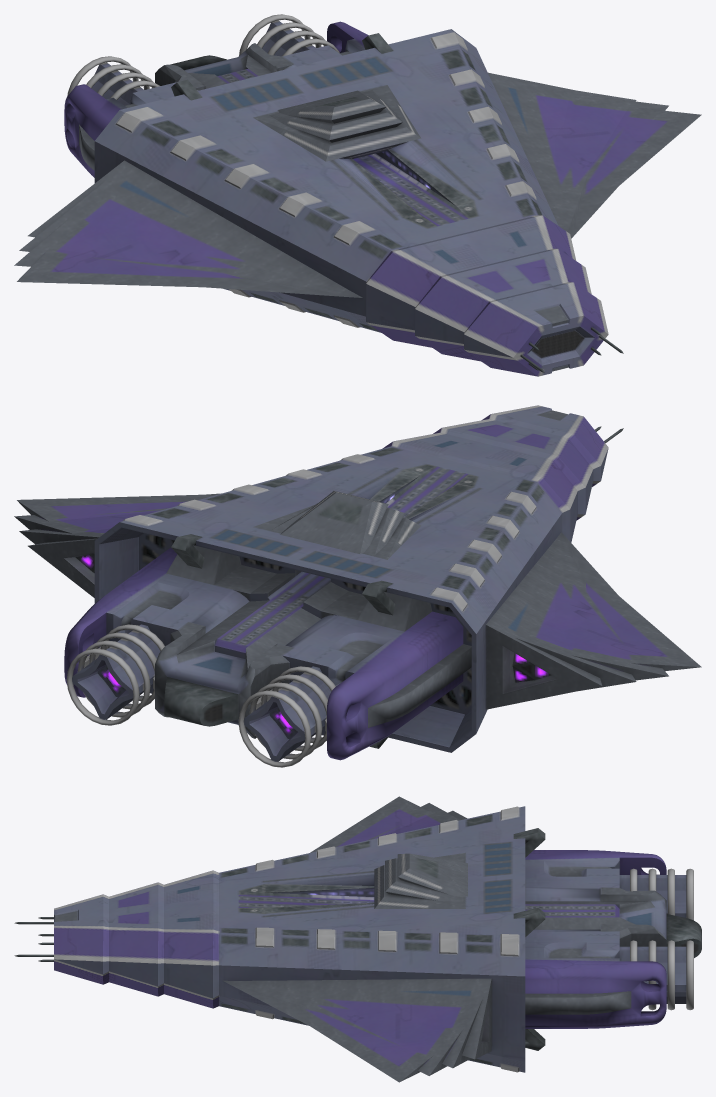
File: hippocrates.glb
3 views of the same model, one above another, from view 1: azimuth 30°, elevation 25°; view 2: azimuth 150°, elevation 25°; view 3: azimuth 270°, elevation 25° (orthographic). The views are drawn at different scales.
Parts seen in each view (by area): view 1: MeshLP; view 2: MeshLP; view 3: MeshLP.
Part boxes in pixels (box(x1,y1,x2,y2)): MeshLP: box(14, 14, 701, 376); MeshLP: box(14, 405, 701, 767); MeshLP: box(14, 796, 701, 1082).
Bounding box in the file's own units: 14.37 × 3.65 × 14.6.
Materials: 1 (1 with a texture image).
